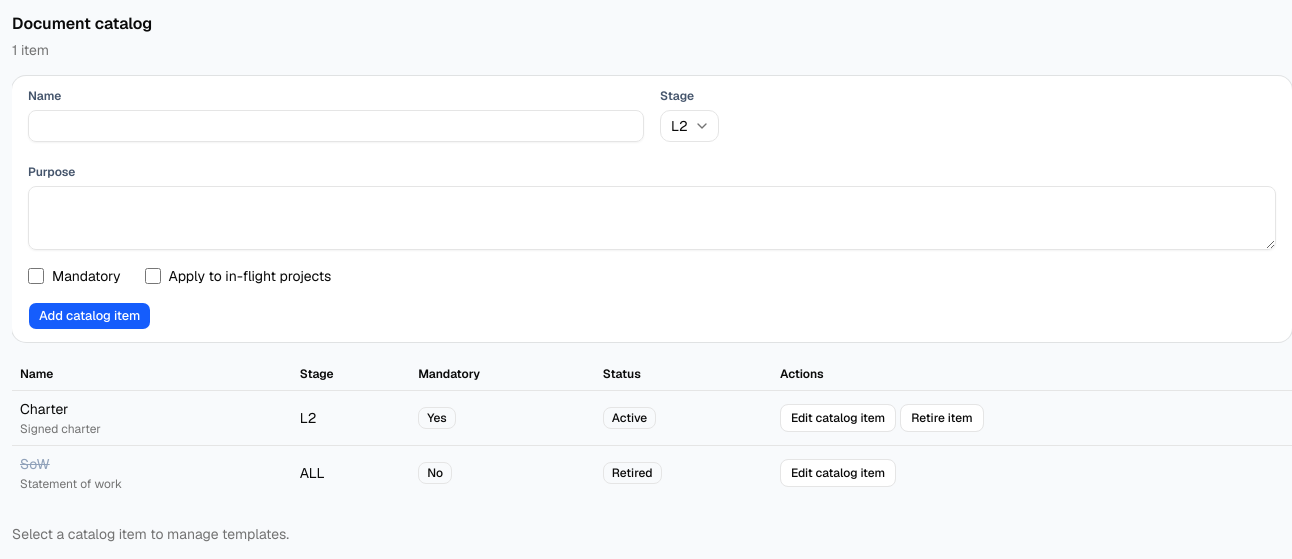
Test case: DocumentCatalogPage › create catalog item › disables Add catalog item while POST is in-flight
Expected: the element with test id "catalog-create-form" is shown, [12,76,1291,342]
Type "Risk Register" into the field named "Name" at (336,126), box [28,110,644,142]
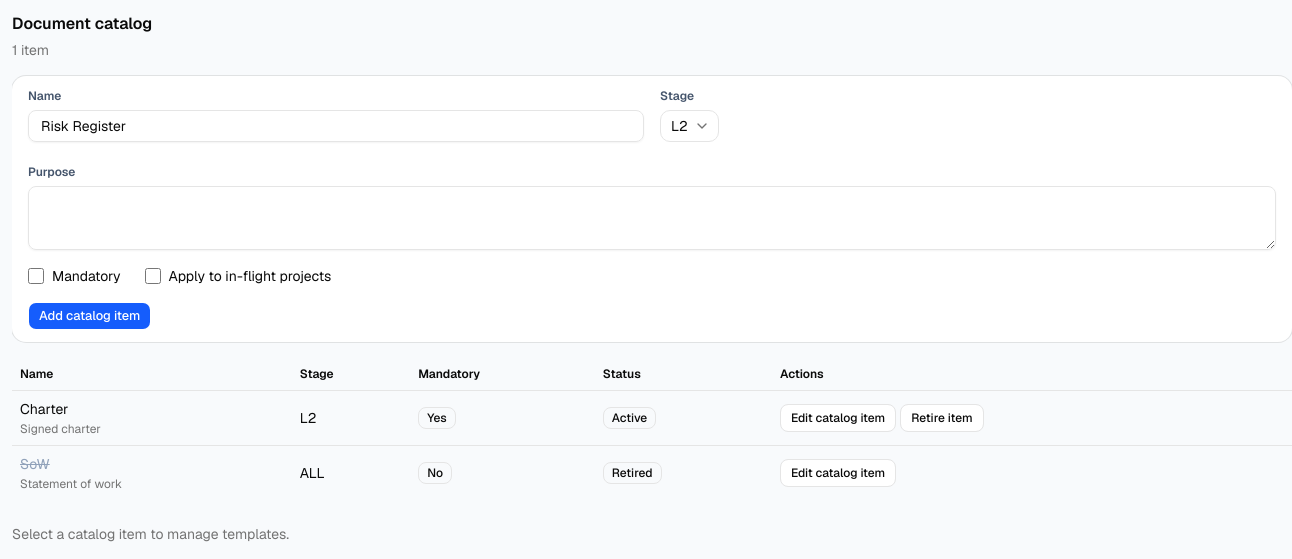
Click the button "Add catalog item" at (90,316), box [28,302,151,330]
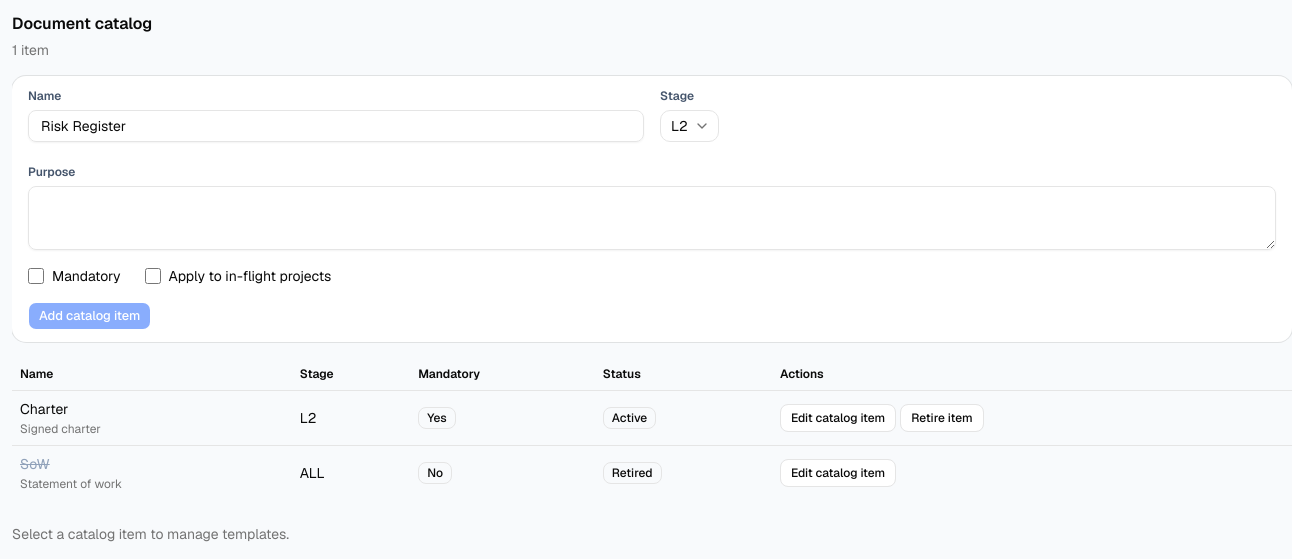
Expected: the button "Add catalog item" is disabled, [28,302,151,330]
